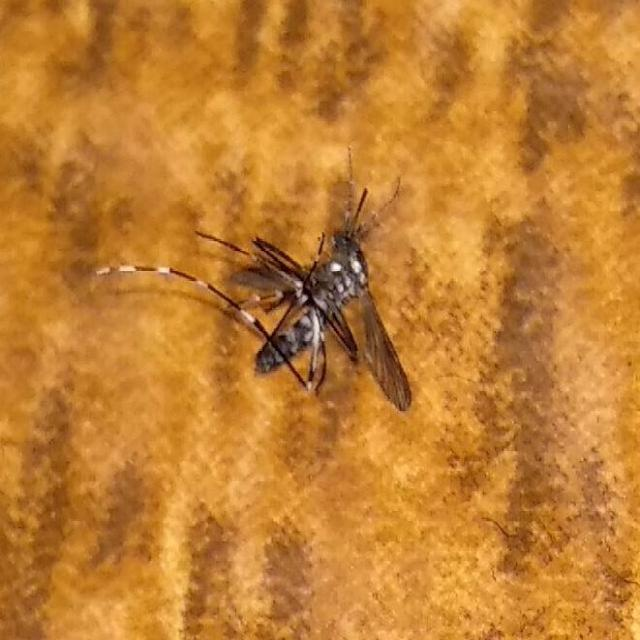albopictus: (85, 140, 425, 424)
